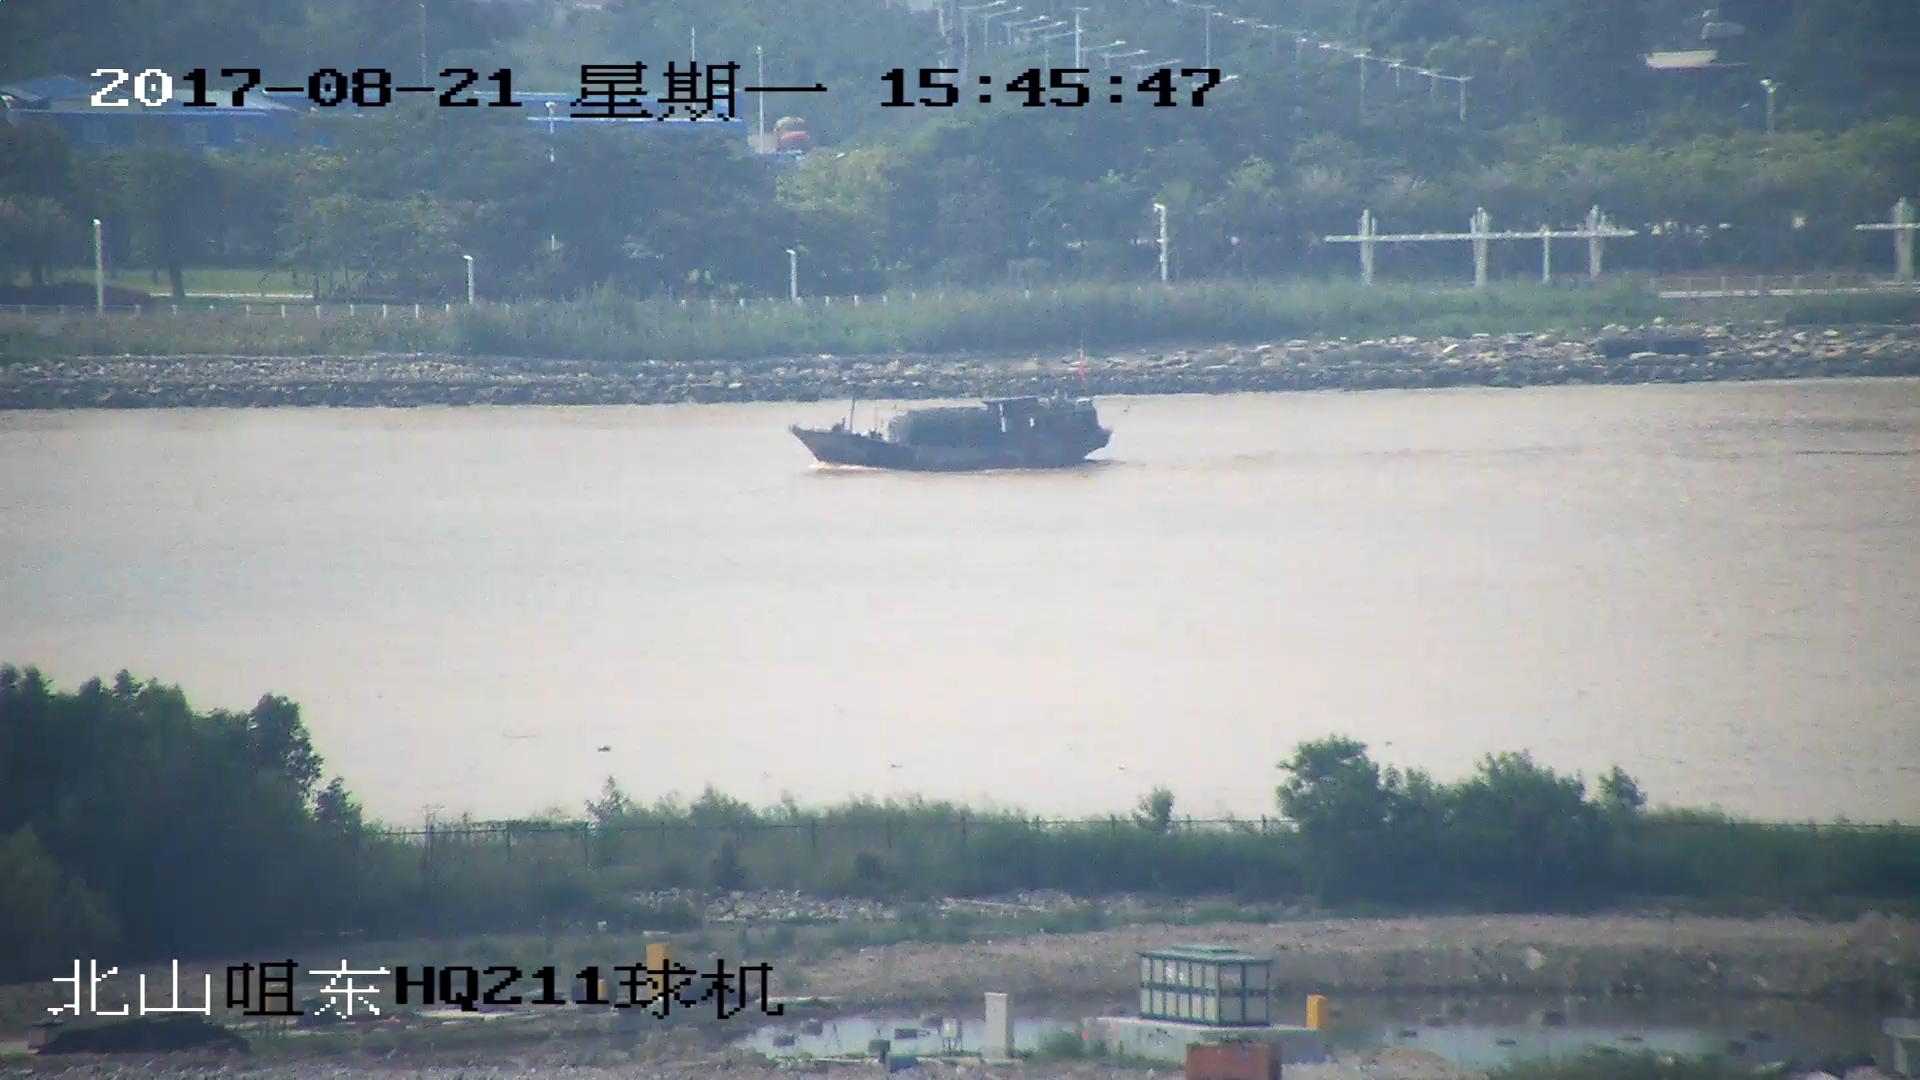fishing boat: (797, 393, 1109, 467)
